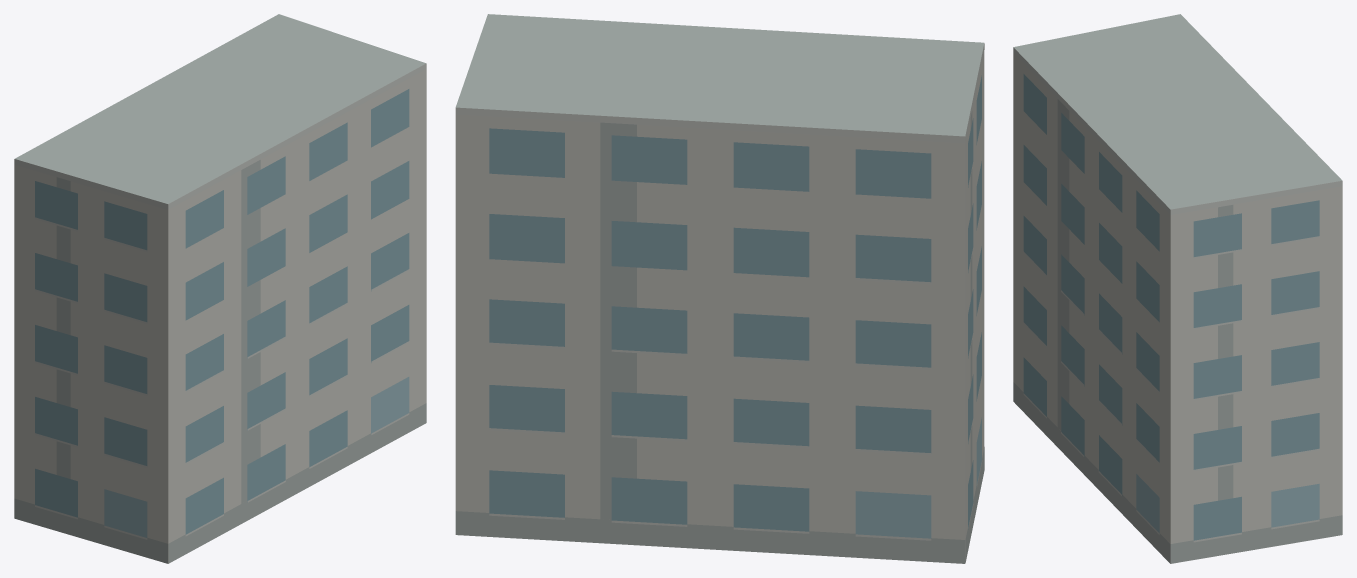
The model's file is survey-upis-32842205.glb.
3 renders of one model, left to right at view 1: azimuth 30°, elevation 25°; view 2: azimuth 150°, elevation 25°; view 3: azimuth 270°, elevation 25°, orthographic. The views are drawn at different scales.
Visible parts, largest first — view 1: survey-upis-32842205.tmp; view 2: survey-upis-32842205.tmp; view 3: survey-upis-32842205.tmp.
Part boxes in pixels (box(x1,y1,x2,y2)): survey-upis-32842205.tmp: box(14, 14, 426, 563); survey-upis-32842205.tmp: box(455, 14, 984, 563); survey-upis-32842205.tmp: box(1013, 14, 1342, 563).
Bounding box in the file's own units: 18.07 × 15.25 × 12.86.
